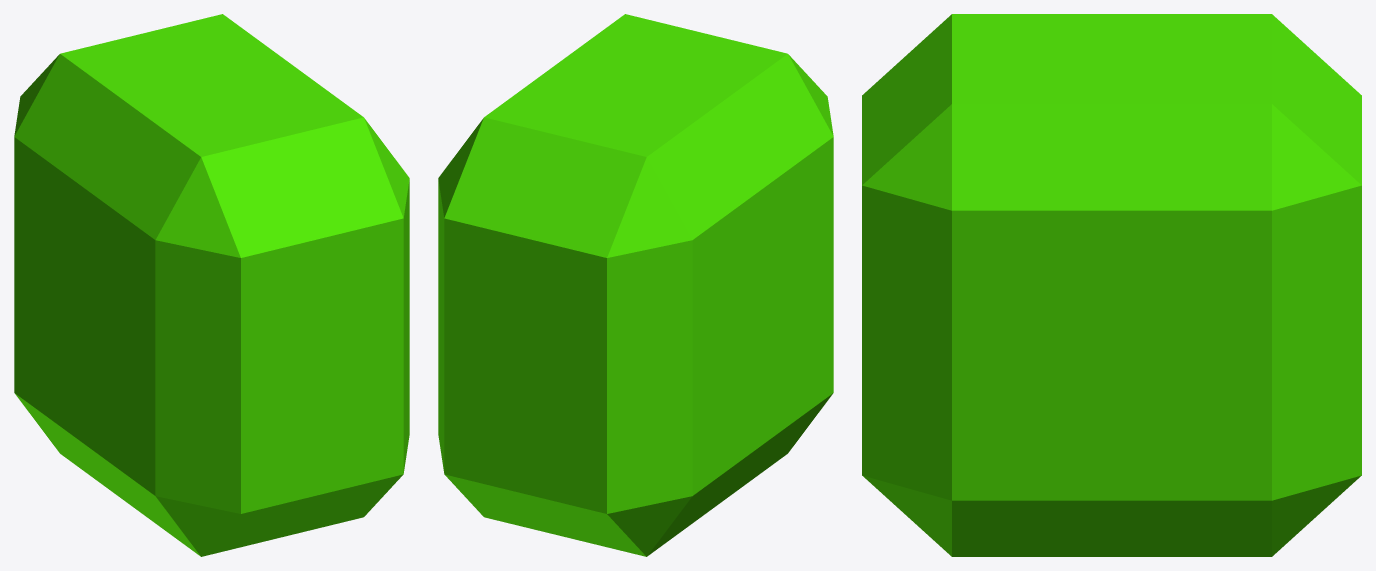
File: snacks.fbx
3 views of the same model, side by side, from view 1: azimuth 30°, elevation 25°; view 2: azimuth 150°, elevation 25°; view 3: azimuth 270°, elevation 25° (orthographic). The views are drawn at different scales.
Visible parts, largest first — view 1: Cube.004; view 2: Cube.004; view 3: Cube.004.
Part boxes in pixels (box(x1,y1,x2,y2)): Cube.004: box(14, 14, 409, 556); Cube.004: box(438, 14, 833, 556); Cube.004: box(862, 14, 1361, 556).
Bounding box in the file's own units: 11.58 × 17.4 × 17.4.
